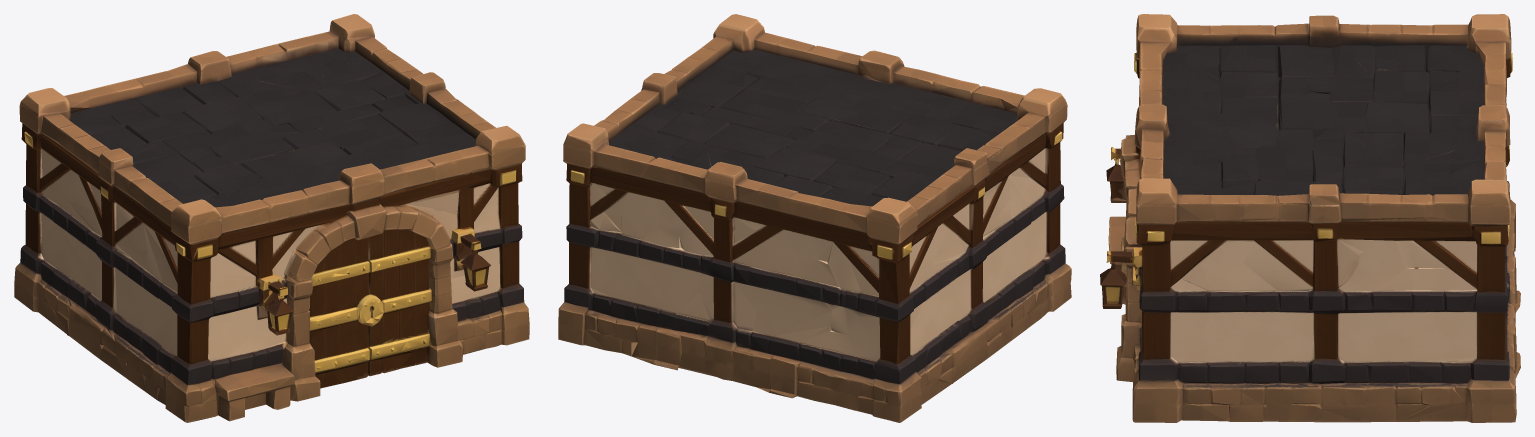
Rendered from TWN_STR_vault_A.glb.
3 renders of one model, left to right at view 1: azimuth 30°, elevation 25°; view 2: azimuth 150°, elevation 25°; view 3: azimuth 270°, elevation 25°, orthographic. The views are drawn at different scales.
Parts seen in each view (by area): view 1: Mesh_0; view 2: Mesh_0; view 3: Mesh_0.
Boxes of the visible parts, box(x1,y1,x2,y2) form: Mesh_0: box(14, 14, 529, 422); Mesh_0: box(558, 14, 1071, 422); Mesh_0: box(1100, 14, 1520, 422).
Size of the model in its own units: 1.9 by 1.07 by 1.81.
1 material, 1 textured.
